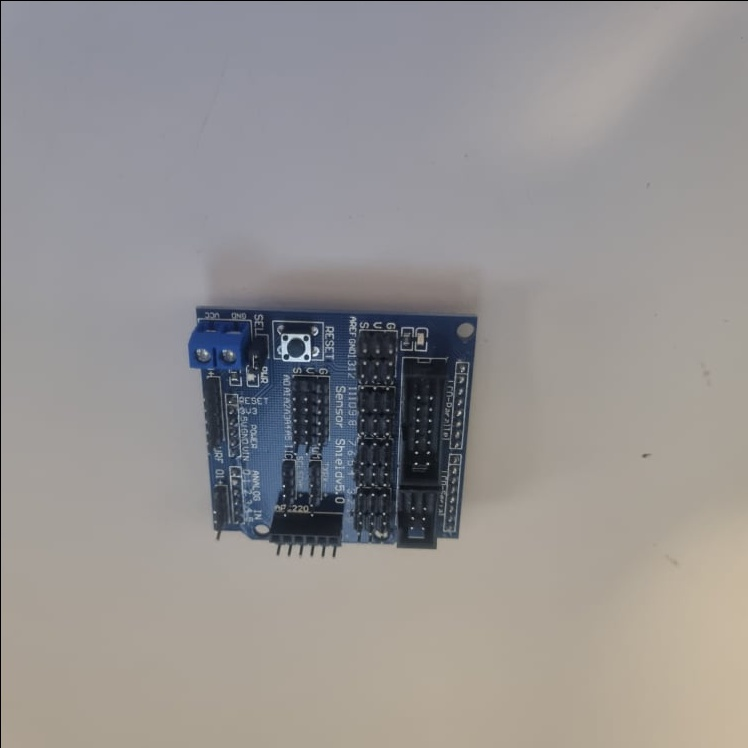5V EXPANSION: (182, 307, 480, 562)
